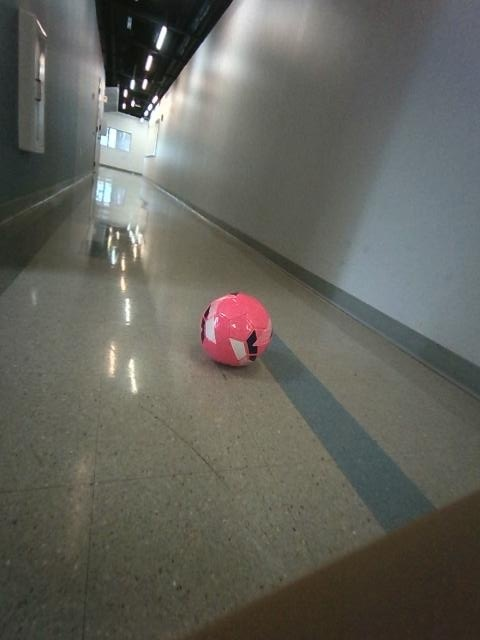ball: (201, 292, 271, 365)
